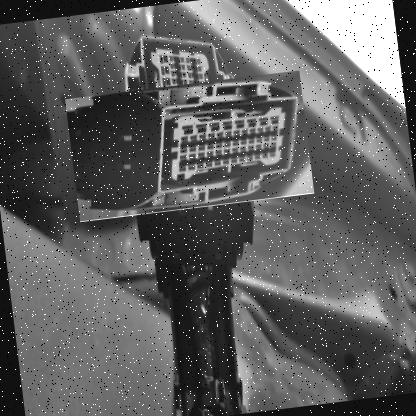Connector: (86, 43, 289, 246)
